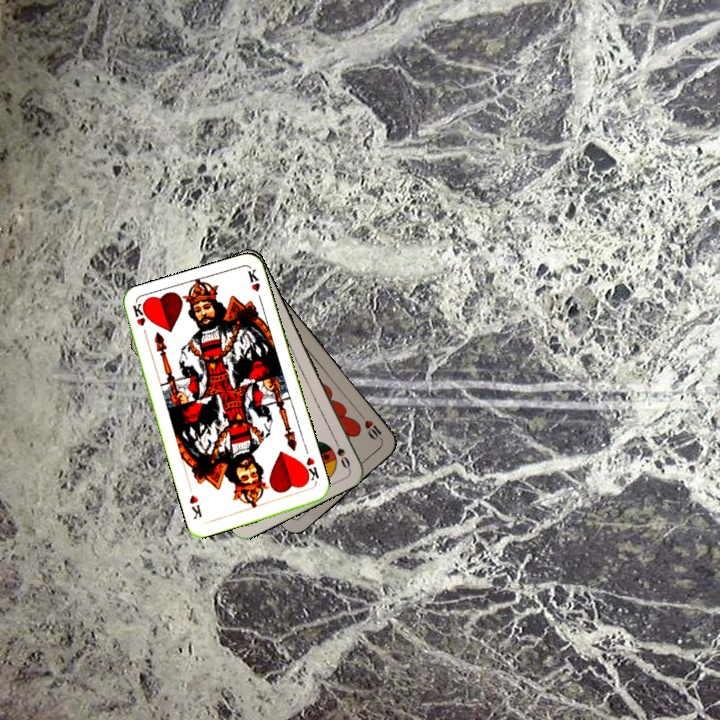H10: (356, 409, 385, 444)
HK: (128, 300, 150, 341), (298, 453, 322, 487)
SO: (329, 433, 353, 471)
